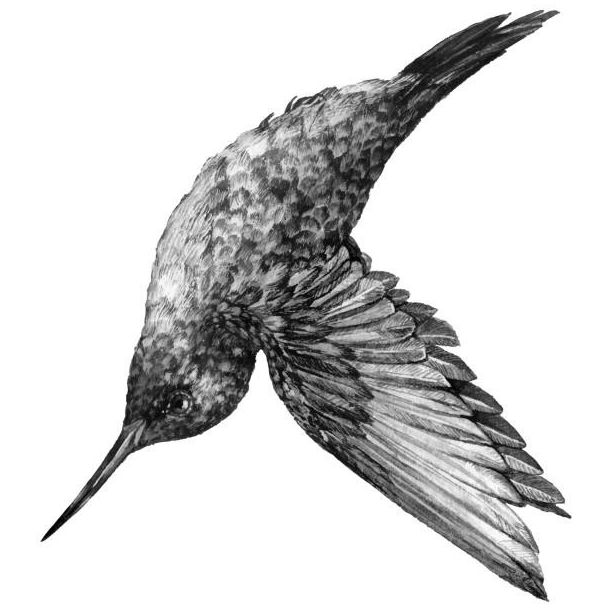Bird: (37, 3, 562, 607)
